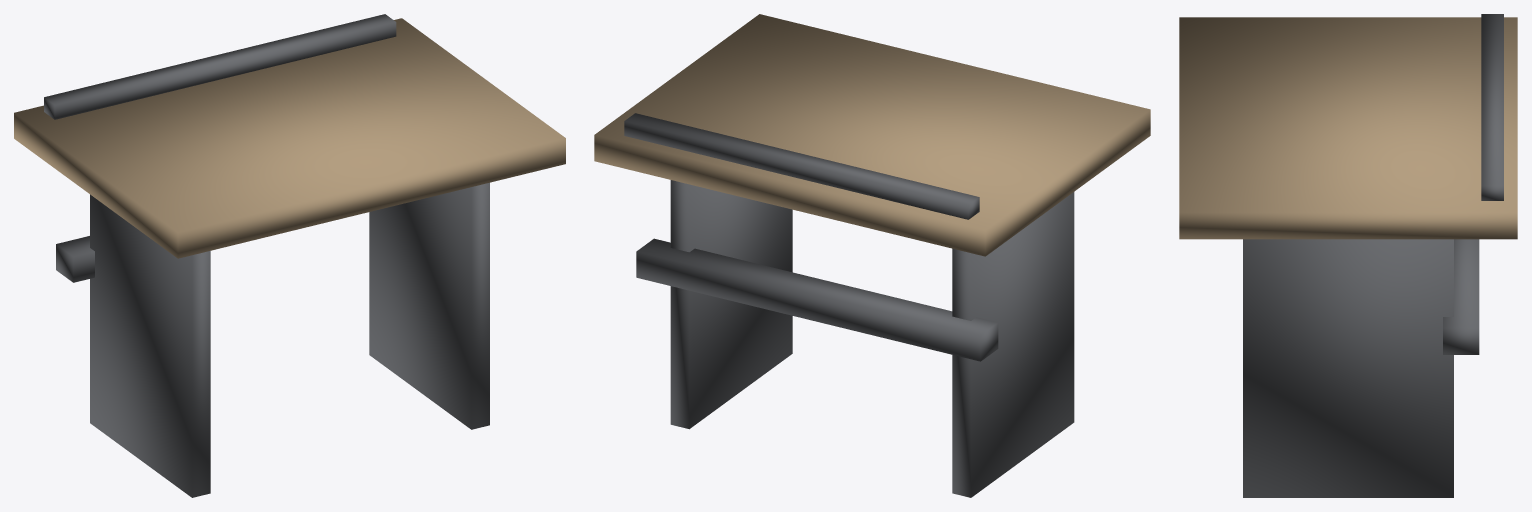
Rendered from drafting_table__deep.glb.
3 views of the same model, side by side, from view 1: azimuth 30°, elevation 25°; view 2: azimuth 150°, elevation 25°; view 3: azimuth 270°, elevation 25° (orthographic). The views are drawn at different scales.
Visible parts, largest first — view 1: world; view 2: world; view 3: world.
Part boxes in pixels (bbox=[...]): world: bbox=[14, 14, 565, 497]; world: bbox=[594, 14, 1150, 497]; world: bbox=[1179, 14, 1517, 497].
Size of the model in its own units: 1.25 by 0.965 by 0.915.
